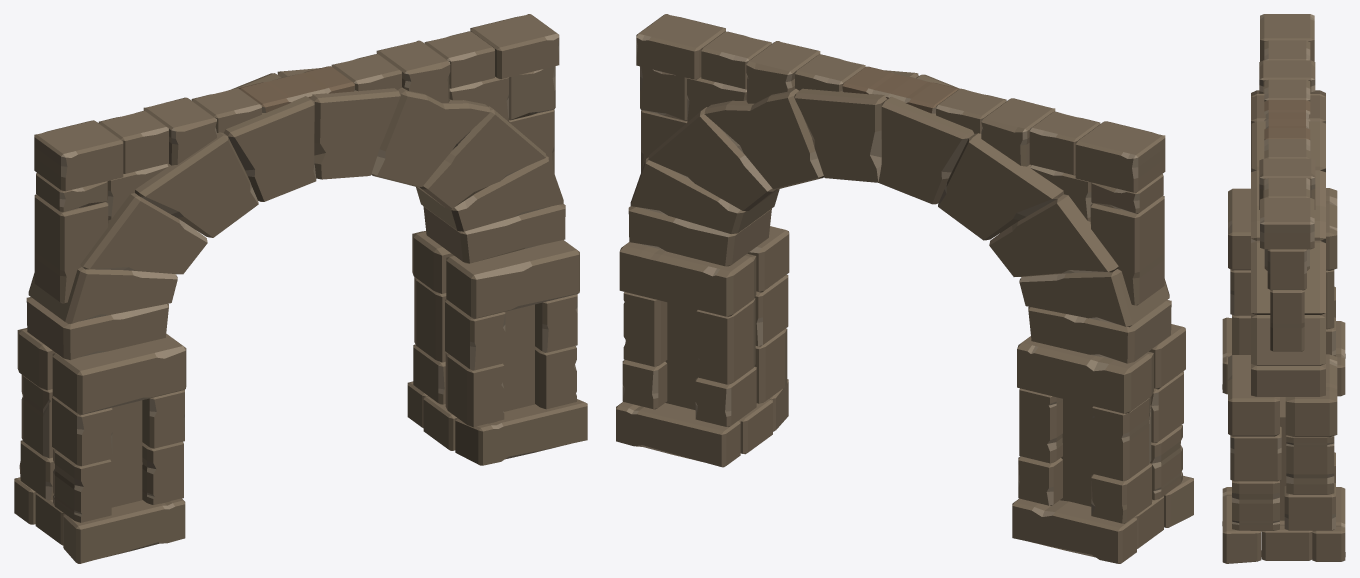
File: Wall-Arch.fbx
3 renders of one model, left to right at view 1: azimuth 30°, elevation 25°; view 2: azimuth 150°, elevation 25°; view 3: azimuth 270°, elevation 25°, orthographic. The views are drawn at different scales.
Visible parts, largest first — view 1: Arch; view 2: Arch; view 3: Arch.
Part boxes in pixels (left/top/right/bottom): Arch: left=14, top=14, right=587, bottom=563; Arch: left=616, top=14, right=1193, bottom=563; Arch: left=1222, top=14, right=1345, bottom=563.
Size of the model in its own units: 821 by 602 by 199.
